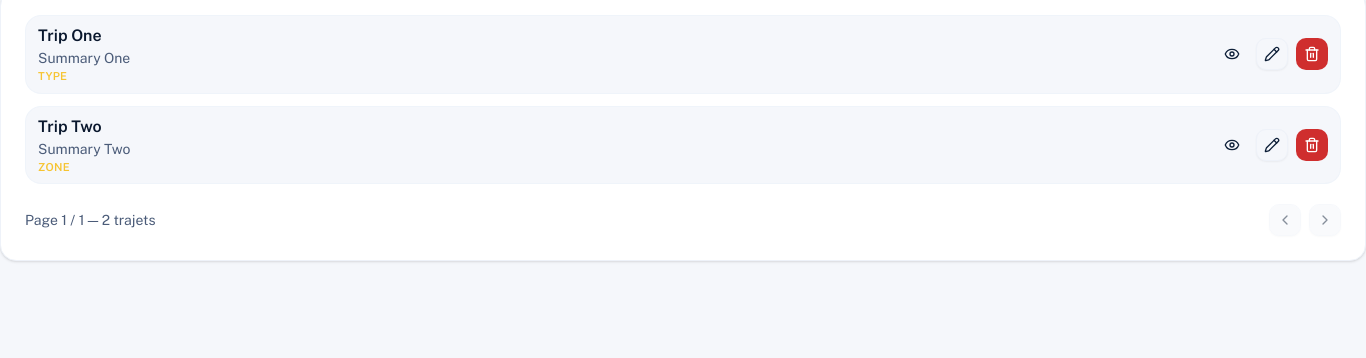
FeaturedTripsAdmin cards › affiche titre, summary, featuredSlot, boutons, et toggle les POI
This screenshot has width=1366, height=358.
Expected: the text "Summary One" is shown, x1=38 y1=48 x2=130 y2=68
Expected: the text "TYPE" is shown, x1=38 y1=70 x2=67 y2=82
Step 1. Click the button "Trip One Summary One TYPE" → (70, 36), box x1=26 y1=16 x2=1340 y2=92
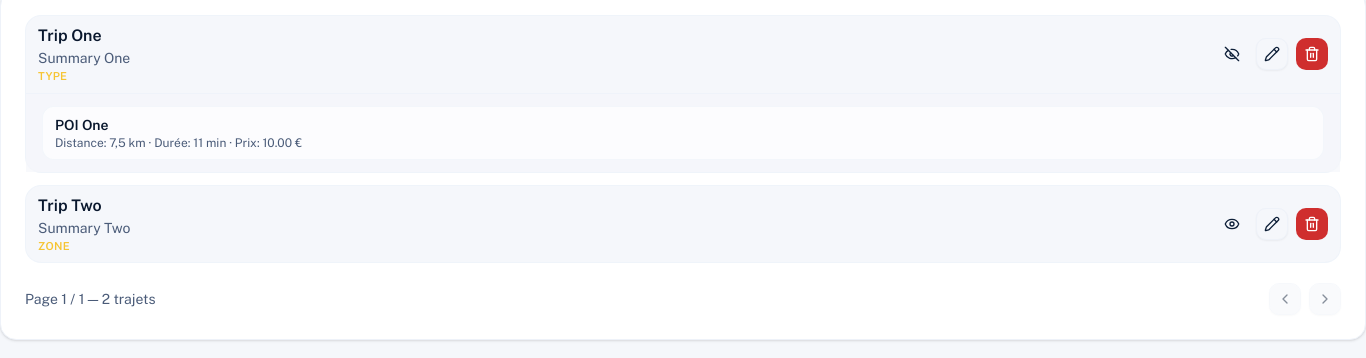
Now the text "POI One" is shown, box x1=55 y1=116 x2=108 y2=132
Now the text "Distance: 7,5 km · Durée: 11 min · Prix: 10.00 €" is shown, box x1=55 y1=136 x2=302 y2=150
Step 2. Click the button "Trip One Summary One TYPE" → (70, 36), box x1=26 y1=16 x2=1340 y2=92
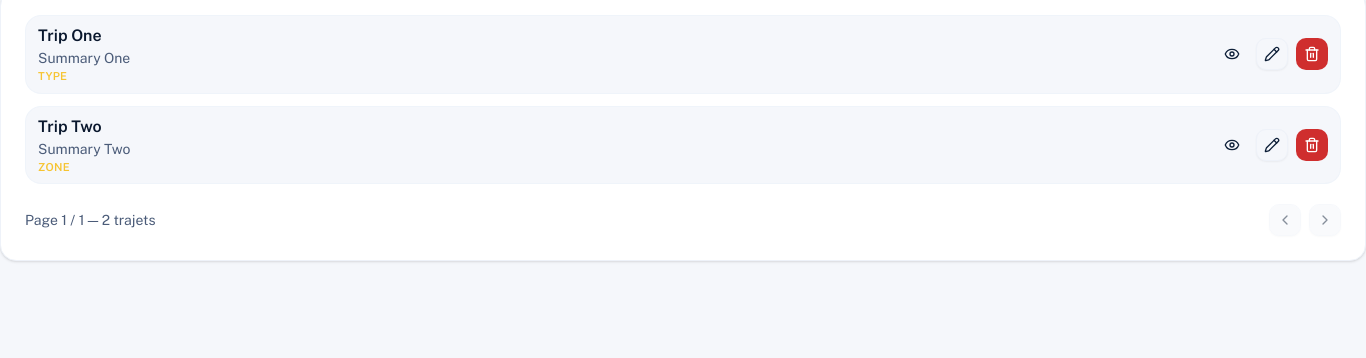
Now the text "POI One" is gone
Step 3. Click the button "Trip Two Summary Two ZONE" → (70, 126), box x1=26 y1=106 x2=1340 y2=183
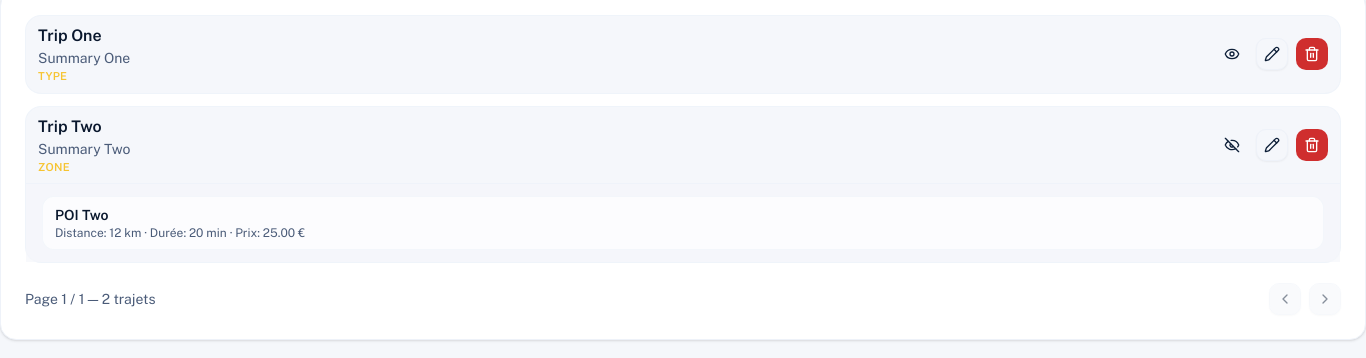
Expected: the text "POI One" is not shown
Now the text "POI Two" is shown, box x1=55 y1=207 x2=108 y2=223
